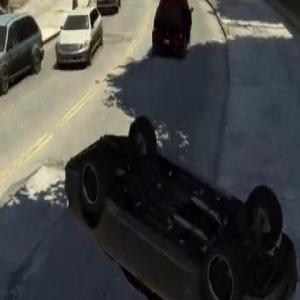serious: (61, 112, 300, 300)
